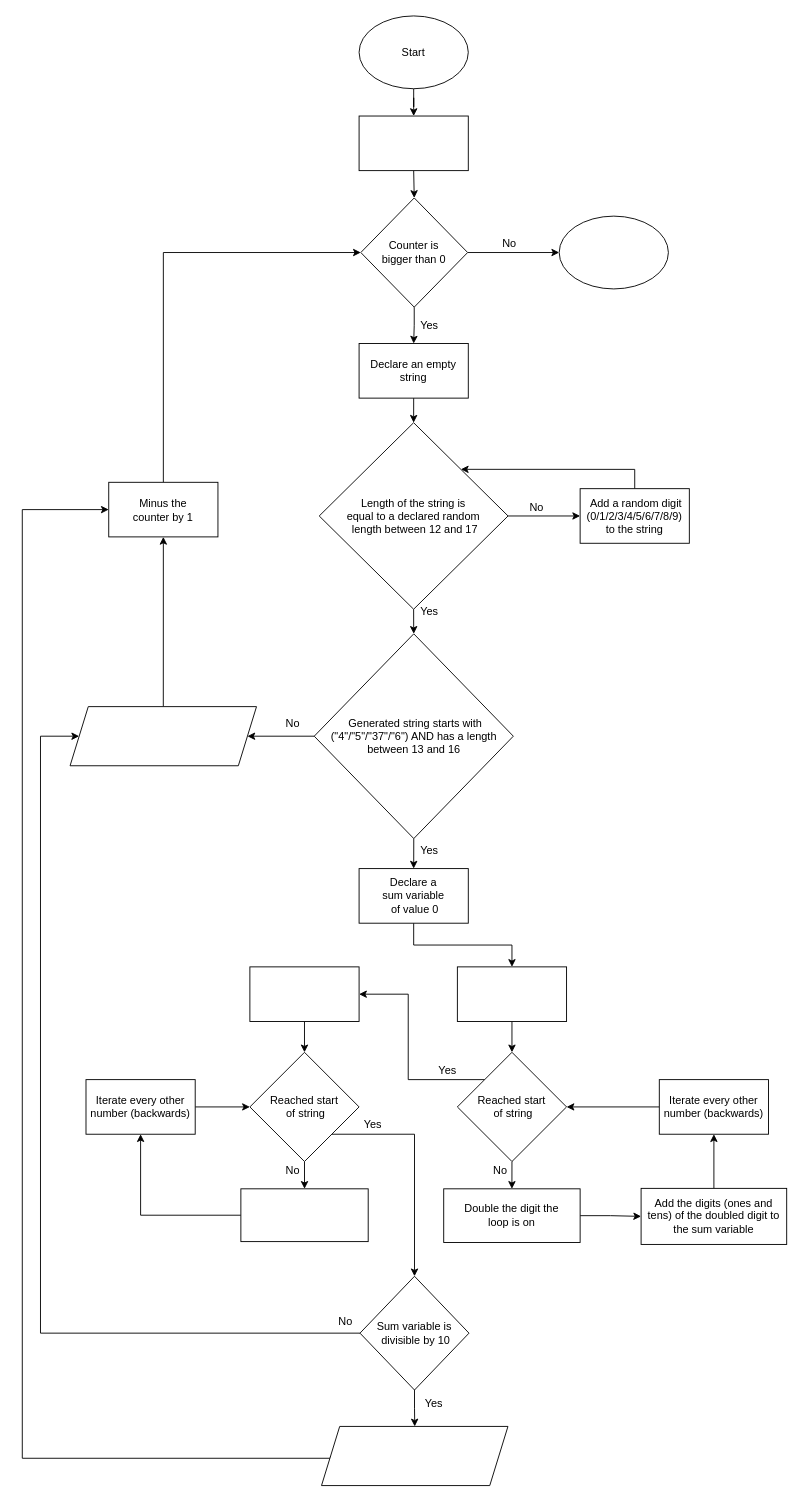
Some shapes in this 803 by 1502 pixel diagram are drawn without their labels. Here are the shapes that lost their labels. From the top down, the box of each, then its label:
(358, 115, 468, 171): Declare a counter
(558, 215, 668, 289): End
(69, 706, 257, 766): Display the string saying that it is invalid
(249, 966, 359, 1021): Loop the string from the last position
(456, 966, 567, 1021): Loop the string from the second to last position
(240, 1188, 368, 1242): Add the digit the loop is on to the sum variable
(321, 1426, 508, 1486): Display the string saying that it is valid
